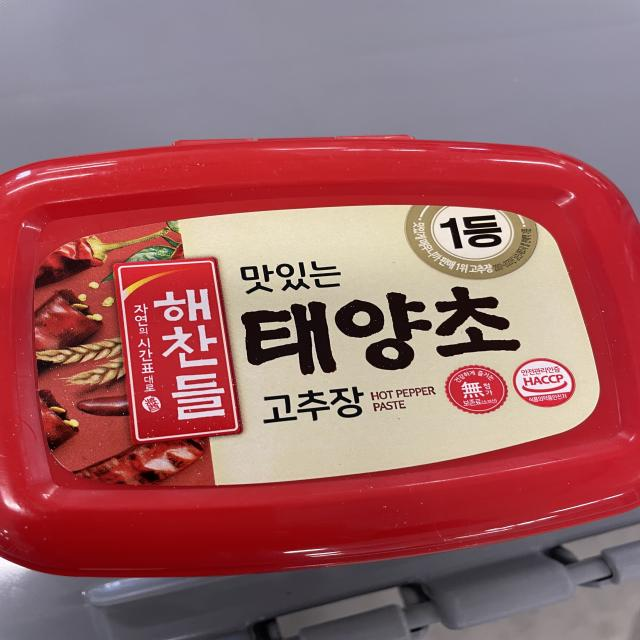object_name: (4, 163, 640, 543)
